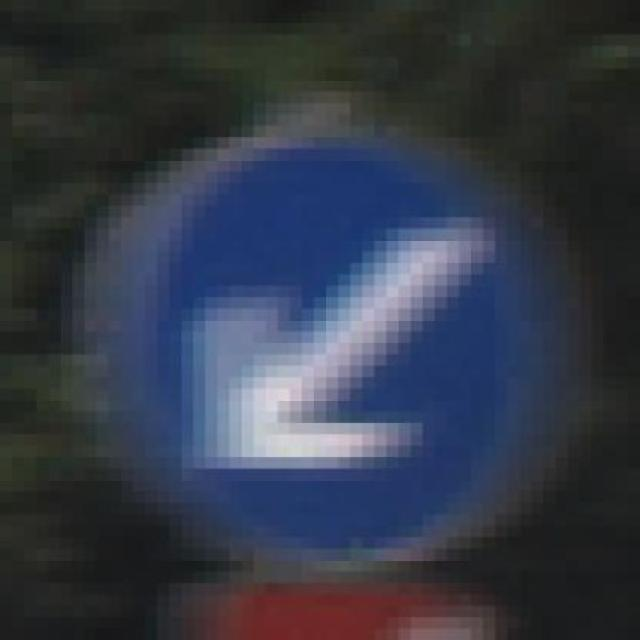Keep-Left: (109, 114, 543, 560)
